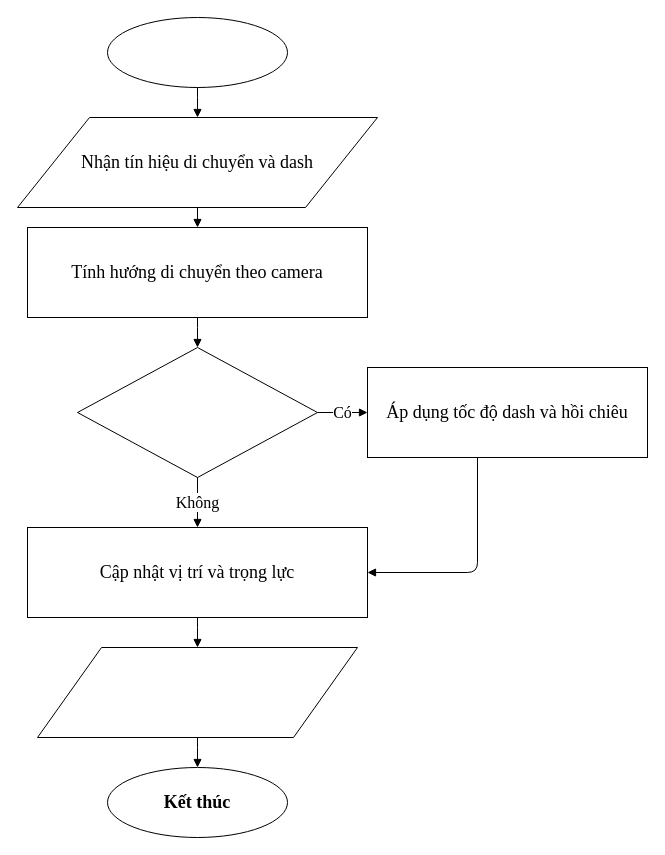
This 665x855 diagram has some shape labels left out. The centre of each missing label's shape, as x and y in pixels:
Bắt đầu: the point at 197,52
Có yêu cầu dash?: the point at 197,412
Hiển thị hoạt ảnh tương ứng: the point at 197,692
